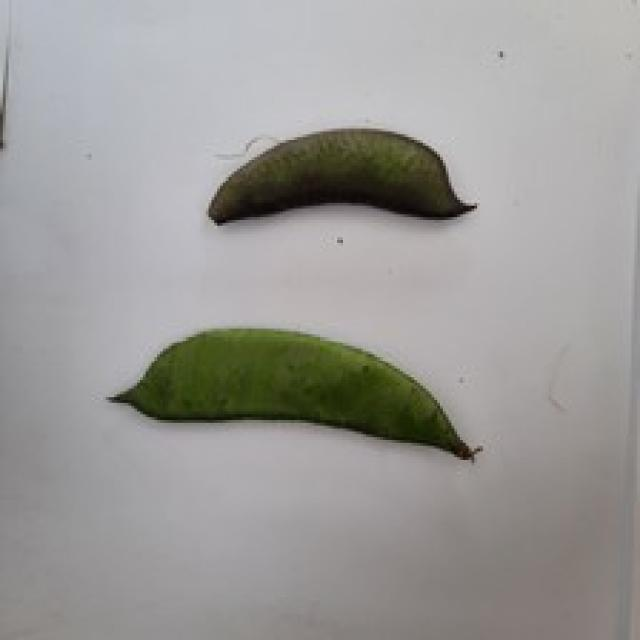Bean: (106, 323, 480, 463), (206, 123, 477, 226)
